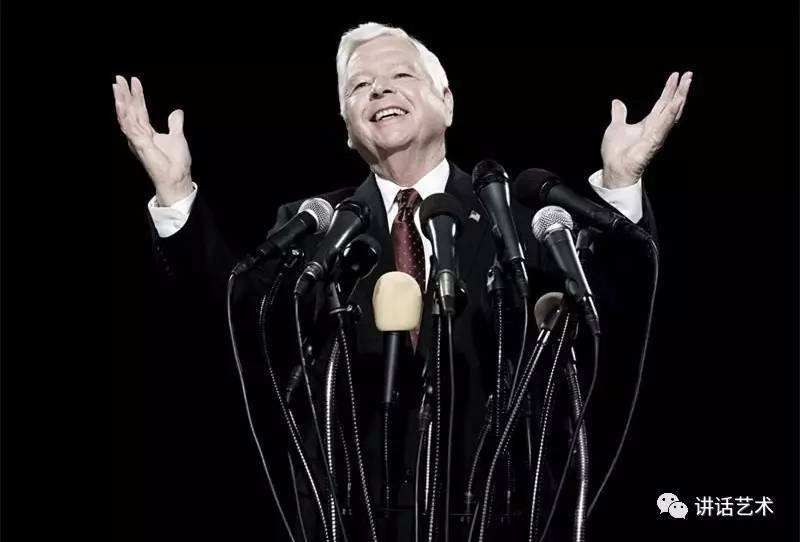no-phone: (105, 68, 194, 189), (596, 67, 694, 175)
